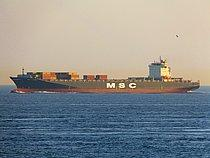Ship: (8, 57, 204, 98)
